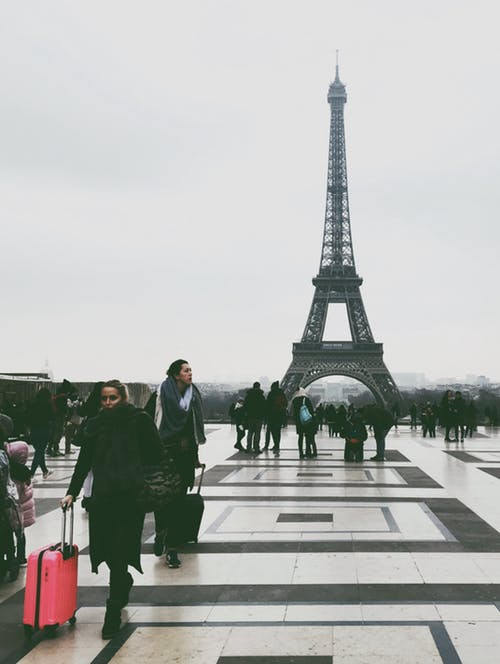eiffel tower: (269, 38, 411, 423)
